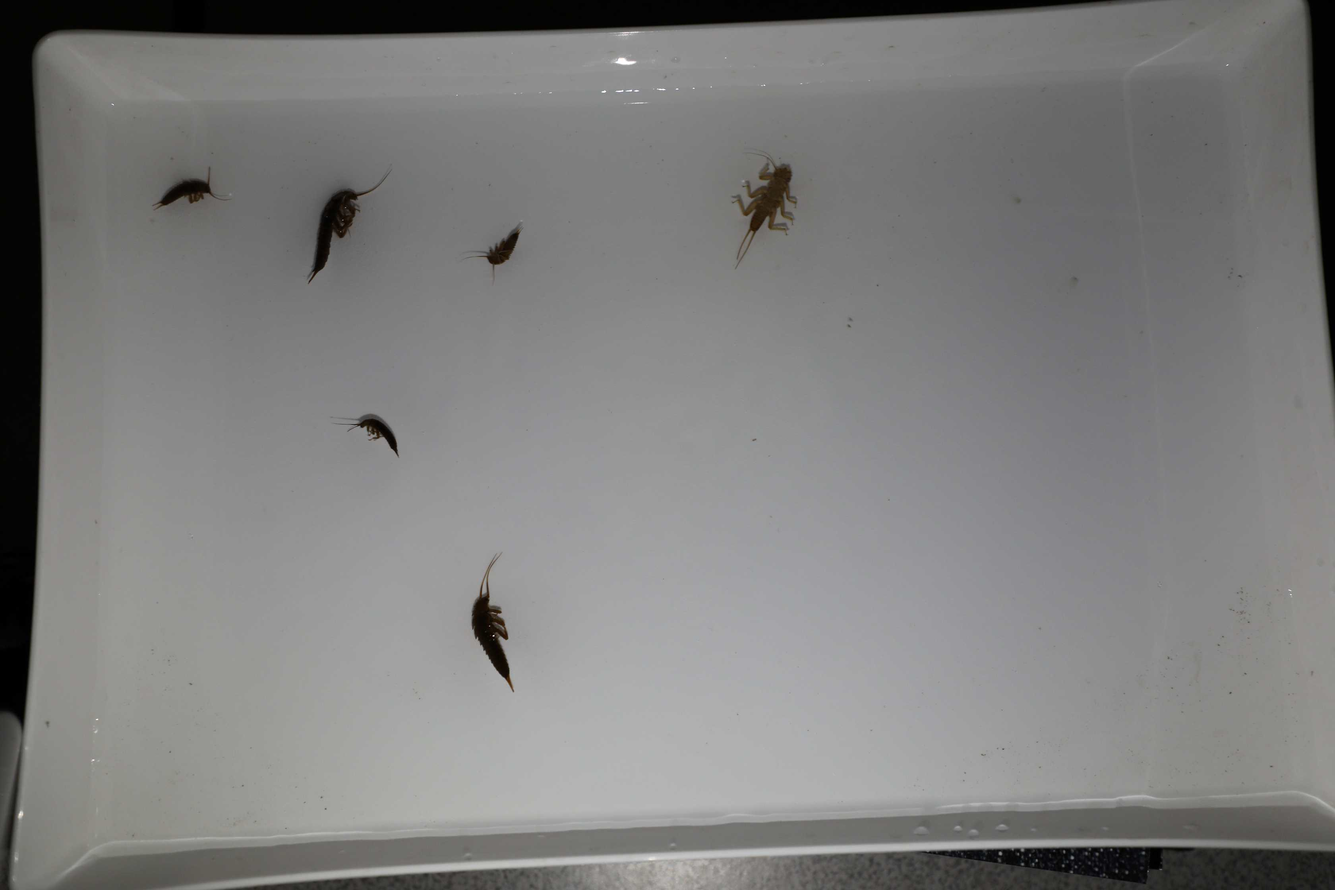Stonefly: (302, 170, 391, 289), (727, 145, 796, 287), (472, 547, 520, 695), (325, 413, 403, 462), (154, 167, 228, 218), (471, 221, 523, 279)
